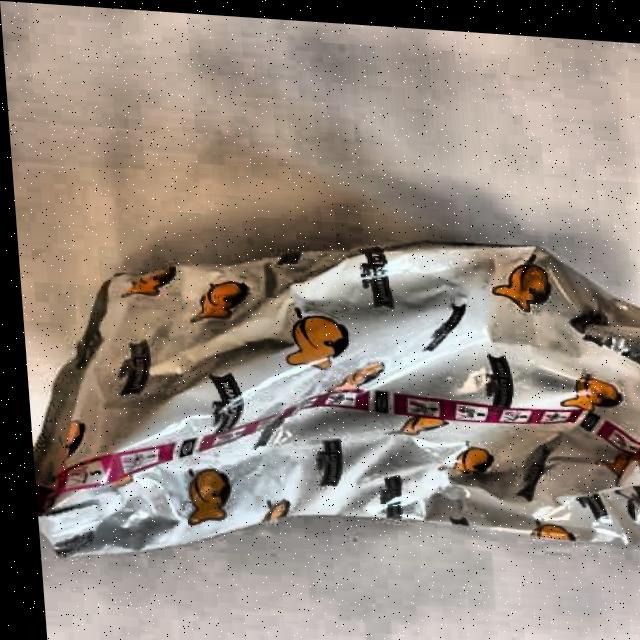plastic: (29, 202, 640, 586)
